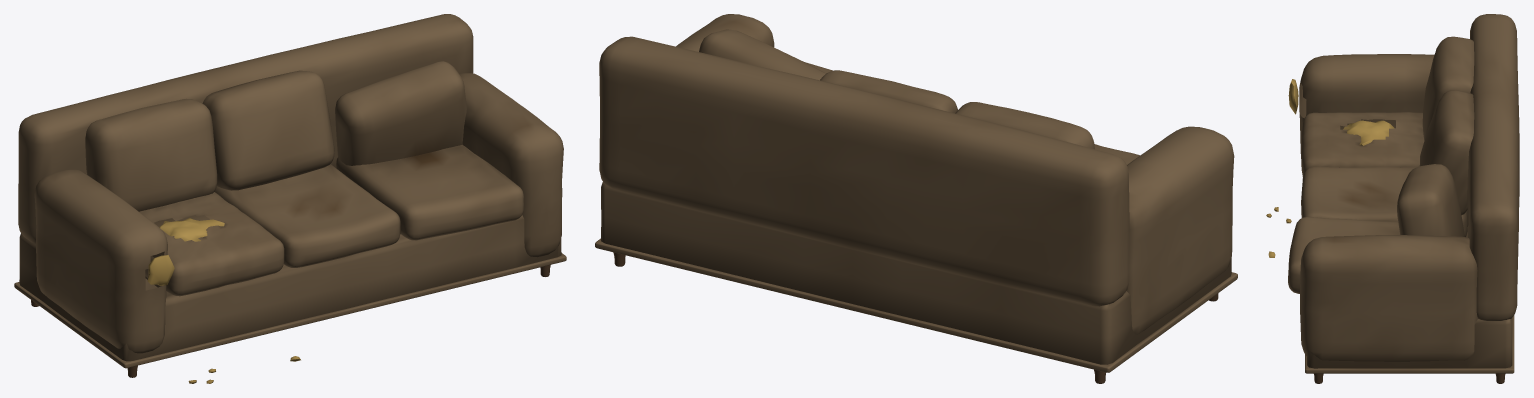
The model's file is sofa_torn.glb.
3 renders of one model, left to right at view 1: azimuth 30°, elevation 25°; view 2: azimuth 150°, elevation 25°; view 3: azimuth 270°, elevation 25°, orthographic. The views are drawn at different scales.
Visible parts, largest first — view 1: sofa_torn; view 2: sofa_torn; view 3: sofa_torn.
Part boxes in pixels (<box>): sofa_torn: <box>14,14,566,383</box>; sofa_torn: <box>595,14,1237,383</box>; sofa_torn: <box>1266,14,1519,383</box>.
Bounding box in the file's own units: 2.09 × 0.8599 × 1.09.
